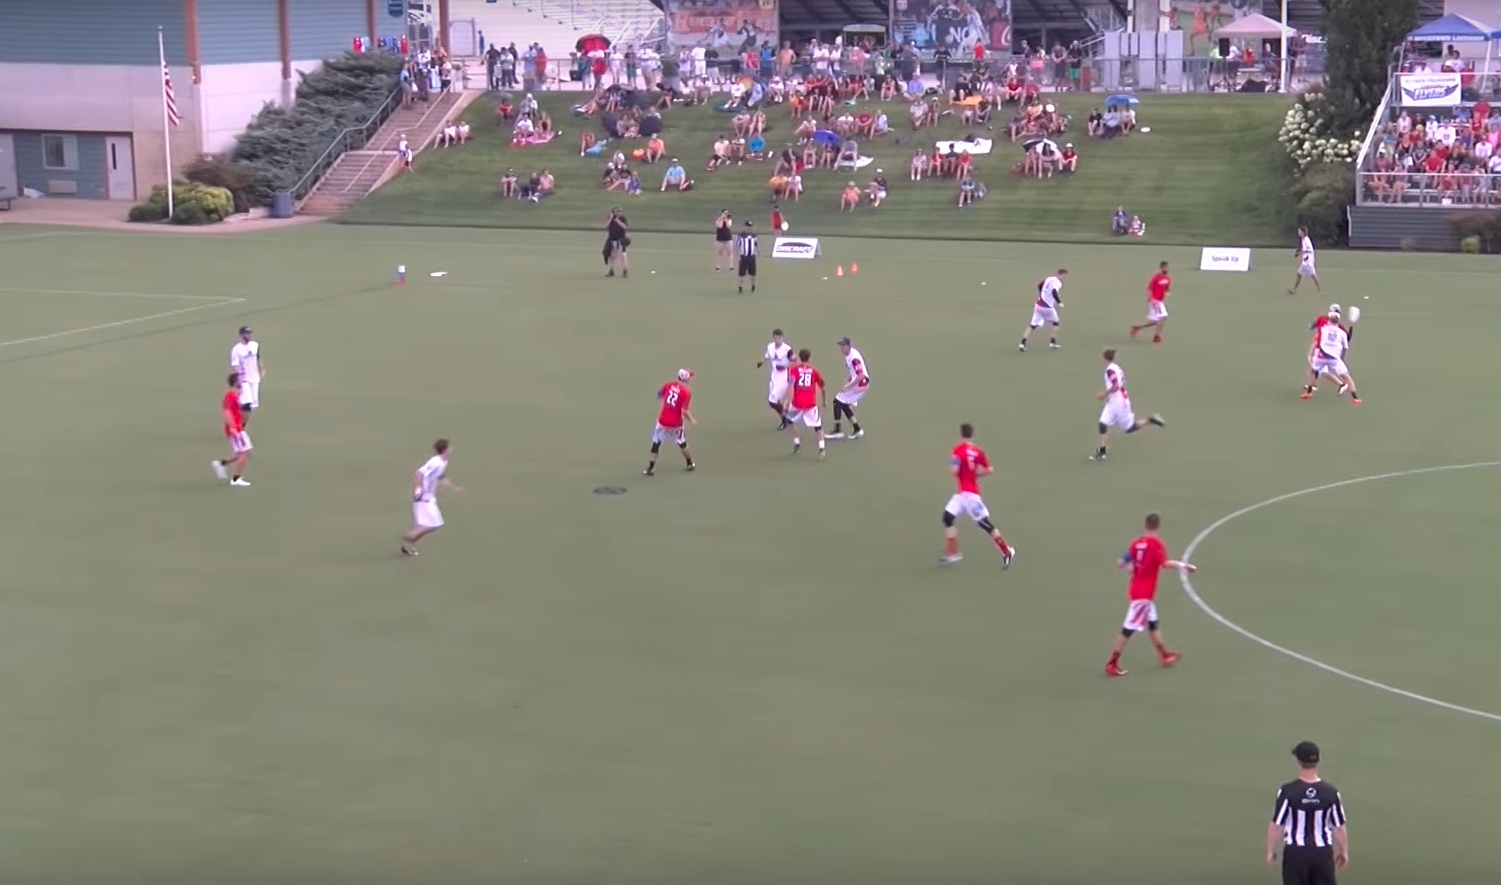frisbee: (1348, 306, 1360, 324)
